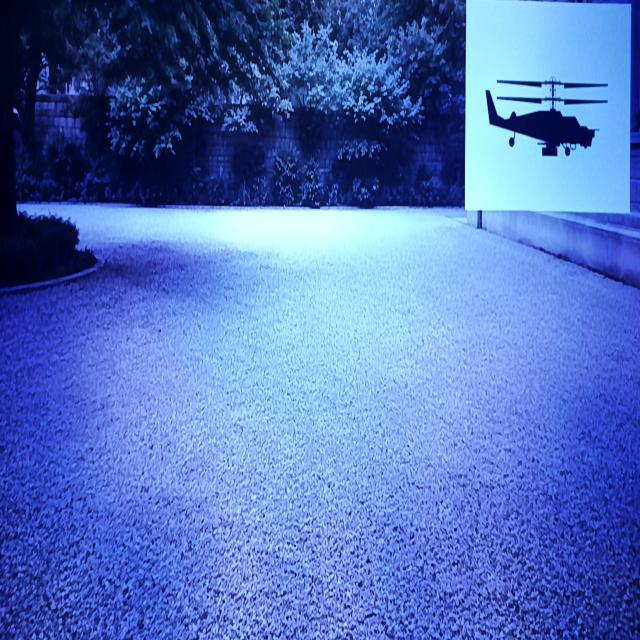Ka-52 Enemy: (486, 78, 607, 156)
